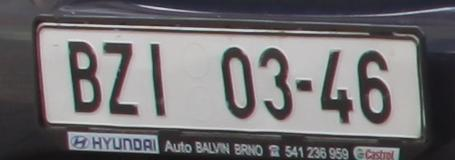-: (296, 80, 311, 92)
0: (220, 48, 255, 117)
3: (260, 48, 293, 120)
4: (320, 50, 353, 125)
6: (359, 51, 392, 124)
B: (67, 41, 101, 112)
I: (151, 44, 166, 116)
Z: (104, 44, 138, 114)
